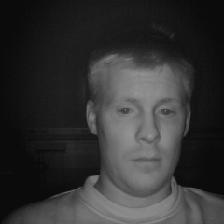normal: (78, 37, 196, 200)
